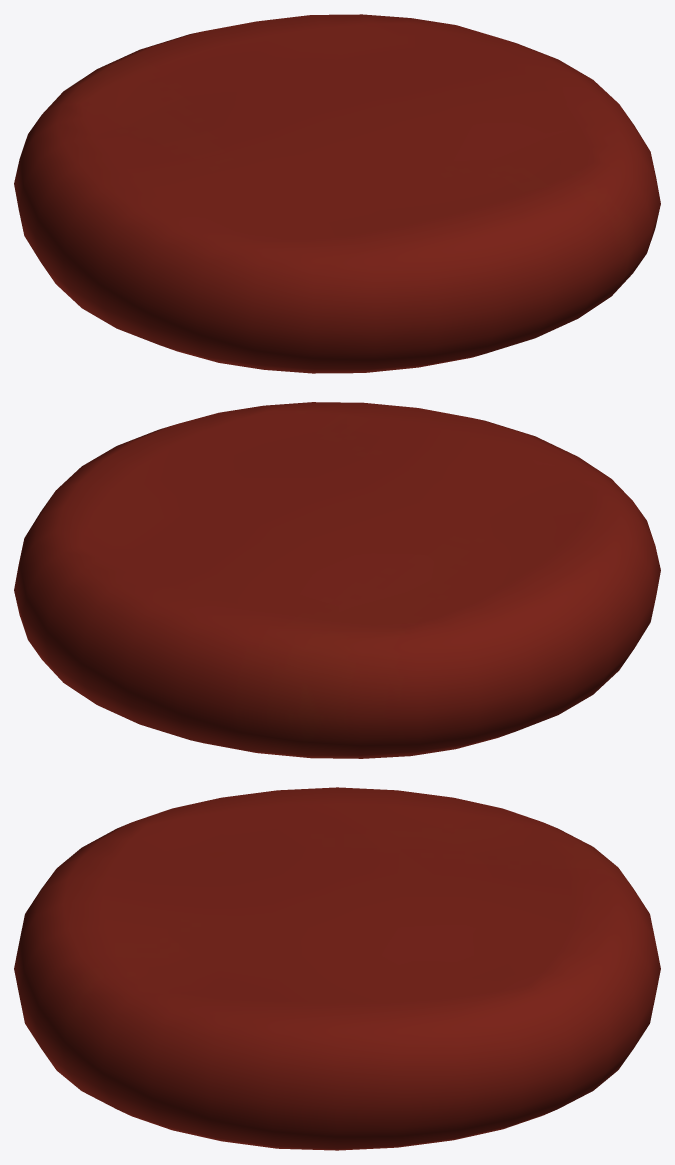
The model's file is m_prep_meat_burger_01.fbx.
3 views of the same model, one above another, from view 1: azimuth 30°, elevation 25°; view 2: azimuth 150°, elevation 25°; view 3: azimuth 270°, elevation 25° (orthographic). The views are drawn at different scales.
Visible parts, largest first — view 1: m_prep_meat_burger_01; view 2: m_prep_meat_burger_01; view 3: m_prep_meat_burger_01.
Part boxes in pixels (x1=…): m_prep_meat_burger_01: x1=14, y1=14, x2=660, y2=373; m_prep_meat_burger_01: x1=14, y1=402, x2=660, y2=758; m_prep_meat_burger_01: x1=14, y1=787, x2=660, y2=1150.
Bounding box in the file's own units: 58.32 × 14.06 × 58.32.
Materials: 1 (1 with a texture image).
